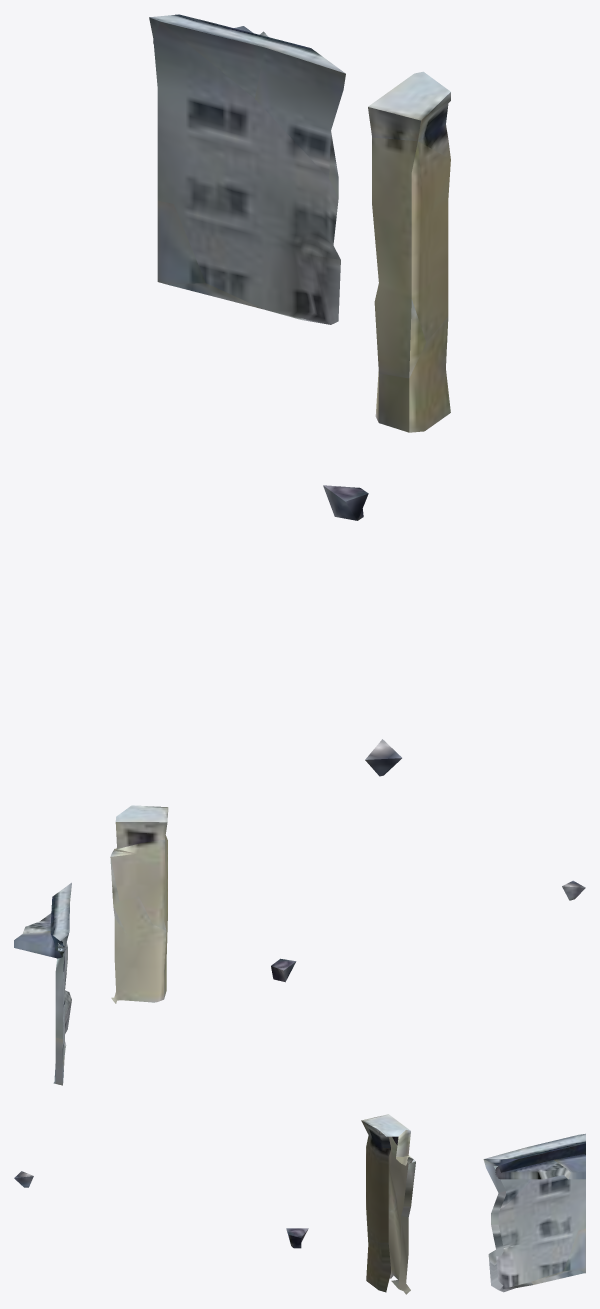
3 renders of one model, top to bottom at view 1: azimuth 30°, elevation 25°; view 2: azimuth 150°, elevation 25°; view 3: azimuth 270°, elevation 25°, orthographic. The views are drawn at different scales.
Visible parts, largest first — view 1: 30436272704361626661_0; view 2: 30436272704361626661_0; view 3: 30436272704361626661_0.
Boxes of the visible parts, x1,y1,x2,y2 form: 30436272704361626661_0: [149, 14, 450, 776]; 30436272704361626661_0: [14, 805, 585, 1085]; 30436272704361626661_0: [14, 1114, 585, 1294].
Size of the model in its own units: 16.11 by 11.25 by 35.32.
Materials: 1 (1 with a texture image).
